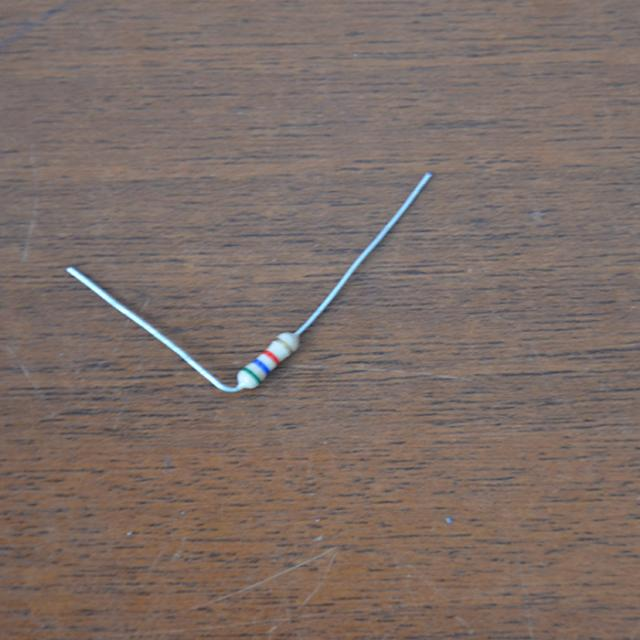blue: (254, 358, 270, 373)
gold: (272, 336, 292, 354)
green: (240, 367, 260, 383)
red: (262, 350, 281, 364)
resistor: (227, 328, 312, 395)
